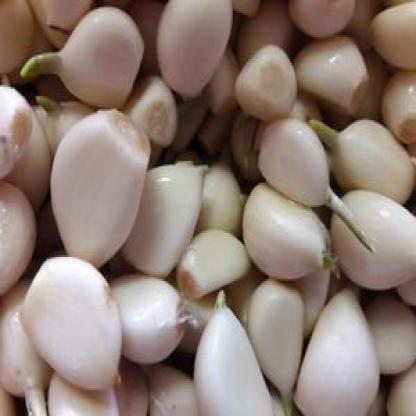garlic: (13, 245, 134, 398), (51, 104, 146, 288), (232, 181, 346, 285), (43, 2, 147, 114), (232, 264, 314, 394), (299, 286, 380, 414), (326, 115, 414, 216), (259, 108, 340, 216), (107, 264, 202, 356), (206, 284, 264, 414), (287, 24, 373, 109), (148, 0, 230, 89), (345, 194, 415, 290), (228, 35, 298, 120), (140, 155, 184, 279), (177, 210, 247, 286), (374, 10, 414, 82)
